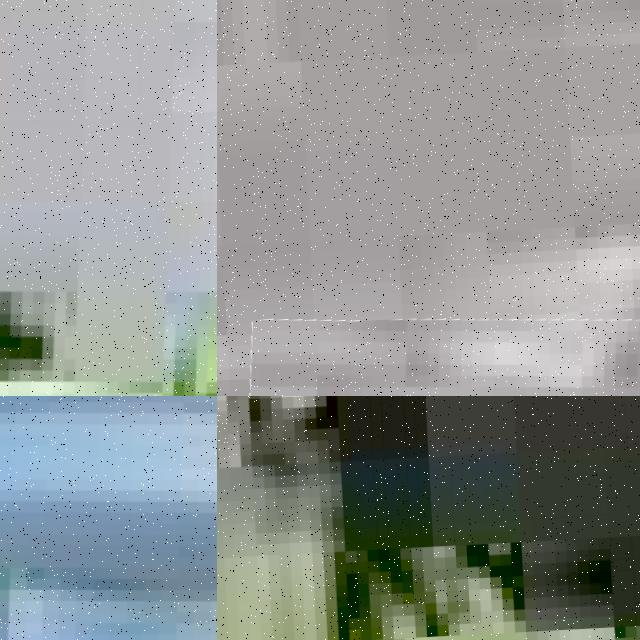0: (0, 0, 217, 396), (245, 305, 640, 396)
drone: (0, 396, 217, 640)
